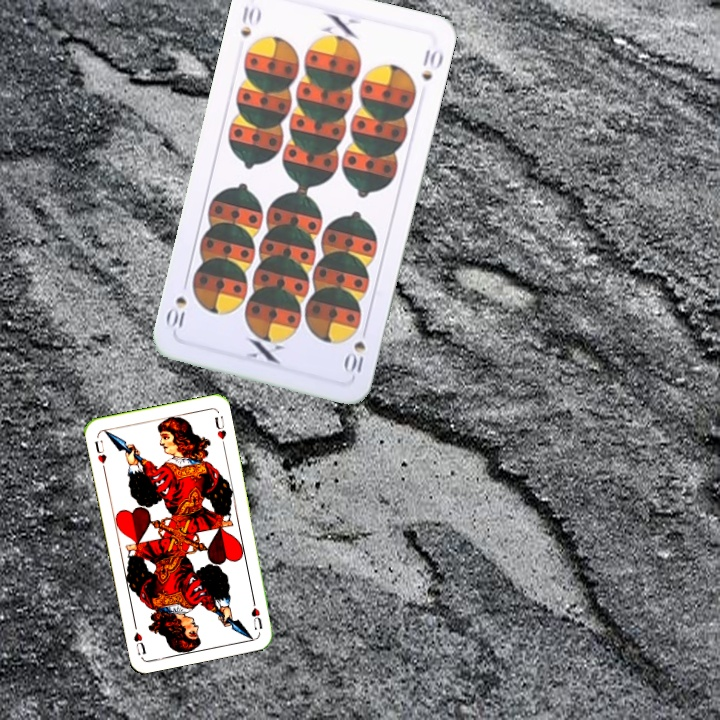HU: (90, 436, 109, 473), (247, 594, 265, 632)
S10: (341, 336, 369, 379), (236, 1, 264, 41)
